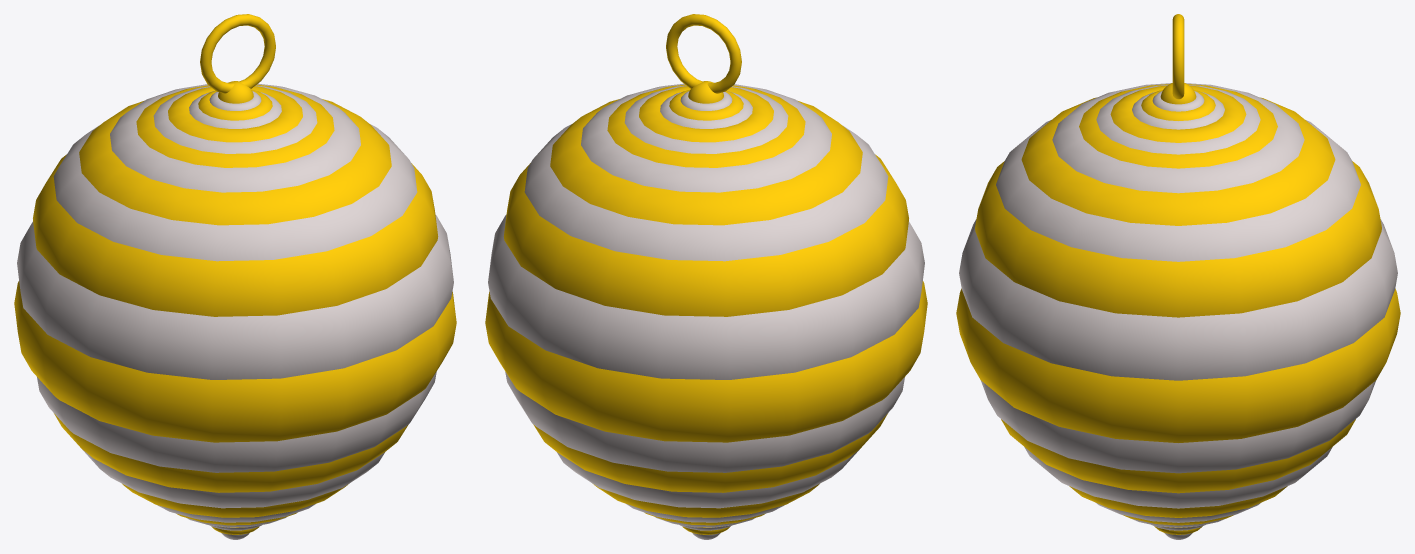
Rendered from christmas_hook.glb.
The picture shows the model from 3 angles, left to right: view 1: azimuth 30°, elevation 25°; view 2: azimuth 150°, elevation 25°; view 3: azimuth 270°, elevation 25°; orthographic projection.
Visible parts, largest first — view 1: pTorus33, pTorus34, pTorus32, pTorus30, pTorus28, pTorus35, pTorus27, pTorus36, pTorus26, pTorus37, pTorus23, pTorus25 (+5 smaller); view 2: pTorus33, pTorus34, pTorus32, pTorus30, pTorus28, pTorus35, pTorus27, pTorus36, pTorus26, pTorus37, pTorus23, pTorus25 (+5 smaller); view 3: pTorus33, pTorus34, pTorus32, pTorus30, pTorus28, pTorus35, pTorus27, pTorus36, pTorus26, pTorus37, pTorus23, pTorus25 (+5 smaller).
Part boxes in pixels (box(x1,y1,x2,y2)): pTorus33: box(17, 214, 453, 379); pTorus34: box(14, 281, 456, 442); pTorus32: box(33, 154, 438, 316); pTorus30: box(53, 124, 417, 261); pTorus28: box(79, 99, 391, 225); pTorus35: box(37, 371, 436, 472); pTorus27: box(110, 82, 360, 192); pTorus36: box(54, 413, 408, 492); pTorus26: box(136, 84, 334, 167); pTorus37: box(82, 449, 384, 508); pTorus23: box(168, 86, 302, 142); pTorus25: box(153, 85, 317, 153); pTorus33: box(488, 214, 924, 379); pTorus34: box(485, 281, 927, 442); pTorus32: box(503, 154, 908, 316); pTorus30: box(524, 124, 888, 261); pTorus28: box(550, 99, 862, 225); pTorus35: box(505, 371, 904, 472); pTorus27: box(581, 82, 831, 192); pTorus36: box(533, 413, 887, 492); pTorus26: box(607, 84, 805, 167); pTorus37: box(557, 449, 859, 508); pTorus23: box(639, 86, 773, 142); pTorus25: box(624, 85, 788, 153); pTorus33: box(959, 219, 1397, 380); pTorus34: box(956, 288, 1400, 442); pTorus32: box(975, 161, 1381, 317); pTorus30: box(996, 120, 1360, 261); pTorus28: box(1021, 97, 1335, 225); pTorus35: box(981, 380, 1375, 473); pTorus27: box(1052, 83, 1304, 193); pTorus36: box(1001, 419, 1355, 493); pTorus26: box(1079, 84, 1277, 168); pTorus37: box(1024, 447, 1332, 508); pTorus23: box(1110, 85, 1246, 142); pTorus25: box(1096, 85, 1260, 154).
Size of the model in its own units: 0.2433 by 0.3152 by 0.2433.
